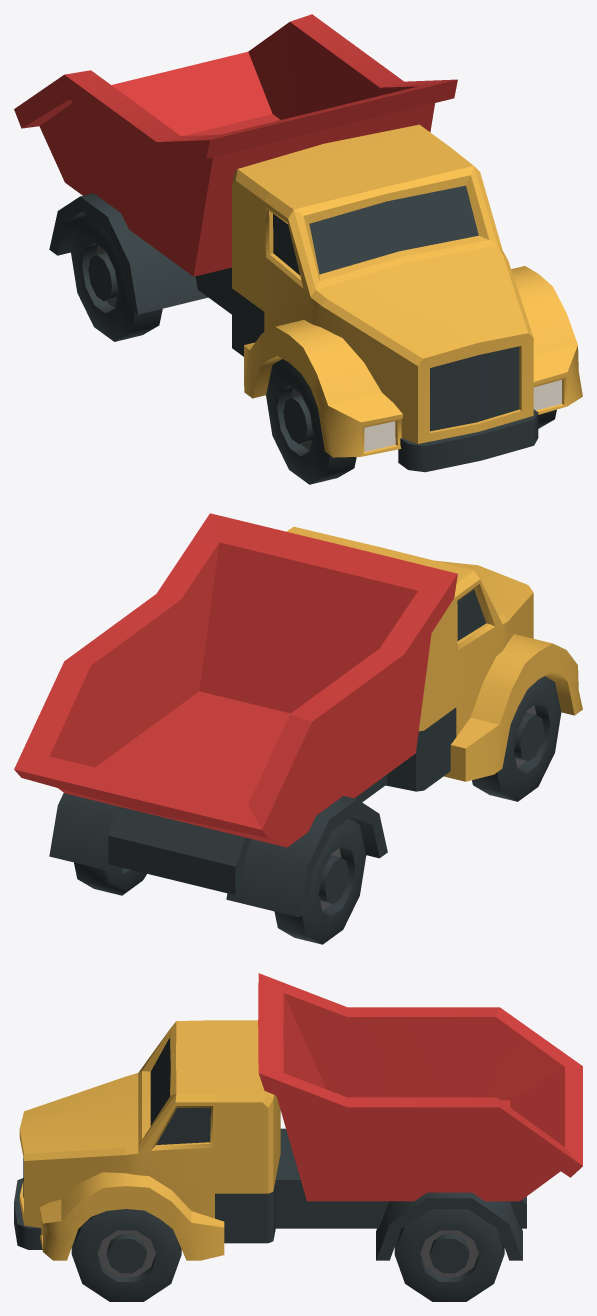
File: DumpTruck_01.fbx
3 renders of one model, top to bottom at view 1: azimuth 30°, elevation 25°; view 2: azimuth 150°, elevation 25°; view 3: azimuth 270°, elevation 25°, orthographic. The views are drawn at different scales.
Visible parts, largest first — view 1: DumpTruck_01, DumpTruck_01_Back_Right, DumpTruck_01_Front_Right; view 2: DumpTruck_01, DumpTruck_01_Back_Right, DumpTruck_01_Front_Right, DumpTruck_01_Back_Left; view 3: DumpTruck_01, DumpTruck_01_Back_Left, DumpTruck_01_Front_Left.
Boxes of the visible parts, x1=… form: DumpTruck_01: x1=14, y1=14, x2=582, y2=472; DumpTruck_01_Back_Right: x1=71, y1=216, x2=162, y2=341; DumpTruck_01_Front_Right: x1=266, y1=359, x2=356, y2=484; DumpTruck_01: x1=14, y1=513, x2=582, y2=917; DumpTruck_01_Back_Right: x1=274, y1=818, x2=366, y2=944; DumpTruck_01_Front_Right: x1=472, y1=676, x2=561, y2=801; DumpTruck_01_Back_Left: x1=74, y1=862, x2=146, y2=895; DumpTruck_01: x1=14, y1=973, x2=582, y2=1260; DumpTruck_01_Back_Left: x1=394, y1=1209, x2=504, y2=1301; DumpTruck_01_Front_Left: x1=71, y1=1209, x2=181, y2=1301.
Size of the model in its own units: 0.345 by 0.3713 by 0.8228.
